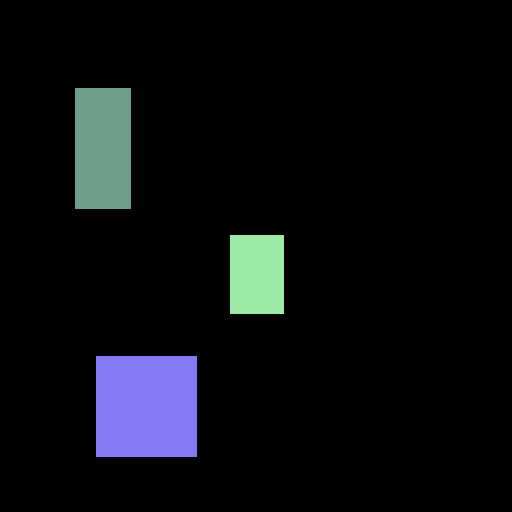rectangle: (75, 88, 130, 208), (230, 235, 283, 313)
square: (96, 356, 196, 456)
